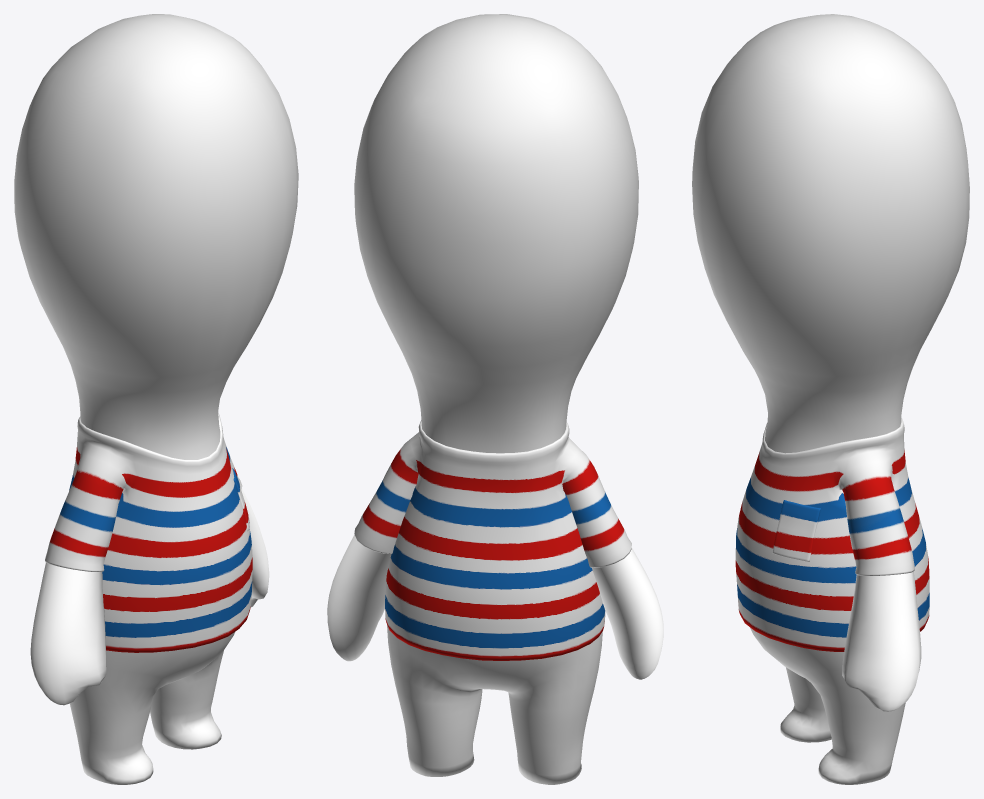
The model's file is Liam.fbx.
3 renders of one model, left to right at view 1: azimuth 30°, elevation 25°; view 2: azimuth 150°, elevation 25°; view 3: azimuth 270°, elevation 25°, orthographic.
Visible parts, largest first — view 1: node_id31, node_id33; view 2: node_id31, node_id33; view 3: node_id31, node_id33.
Boxes of the visible parts, left/top/right/bottom form: node_id31: left=14, top=14, right=298, bottom=784; node_id33: left=45, top=413, right=252, bottom=652; node_id31: left=327, top=14, right=663, bottom=784; node_id33: left=354, top=420, right=631, bottom=660; node_id31: left=692, top=14, right=969, bottom=784; node_id33: left=735, top=418, right=929, bottom=651.
Bounding box in the file's own units: 0.2023 × 0.512 × 0.1779.
2 materials, 2 textured.
